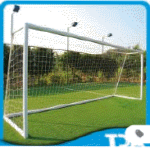goals: (5, 22, 145, 136)
